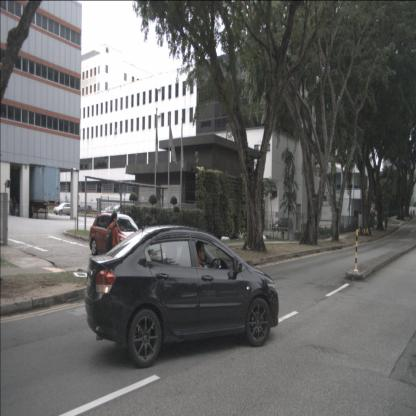human-pedestrian-adult: (106, 212, 120, 279), (410, 209, 412, 219)
vehicle-car: (85, 225, 279, 368), (89, 212, 153, 262), (54, 202, 76, 216)
